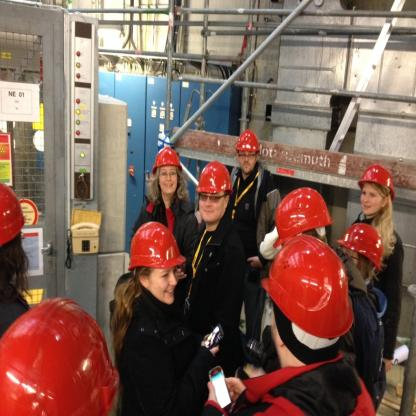Helmet: (0, 294, 120, 416), (264, 236, 353, 348), (275, 186, 332, 247), (126, 220, 190, 269), (336, 222, 382, 271), (0, 179, 26, 253), (196, 160, 233, 195), (358, 164, 393, 198), (151, 143, 182, 173), (232, 130, 259, 155)
